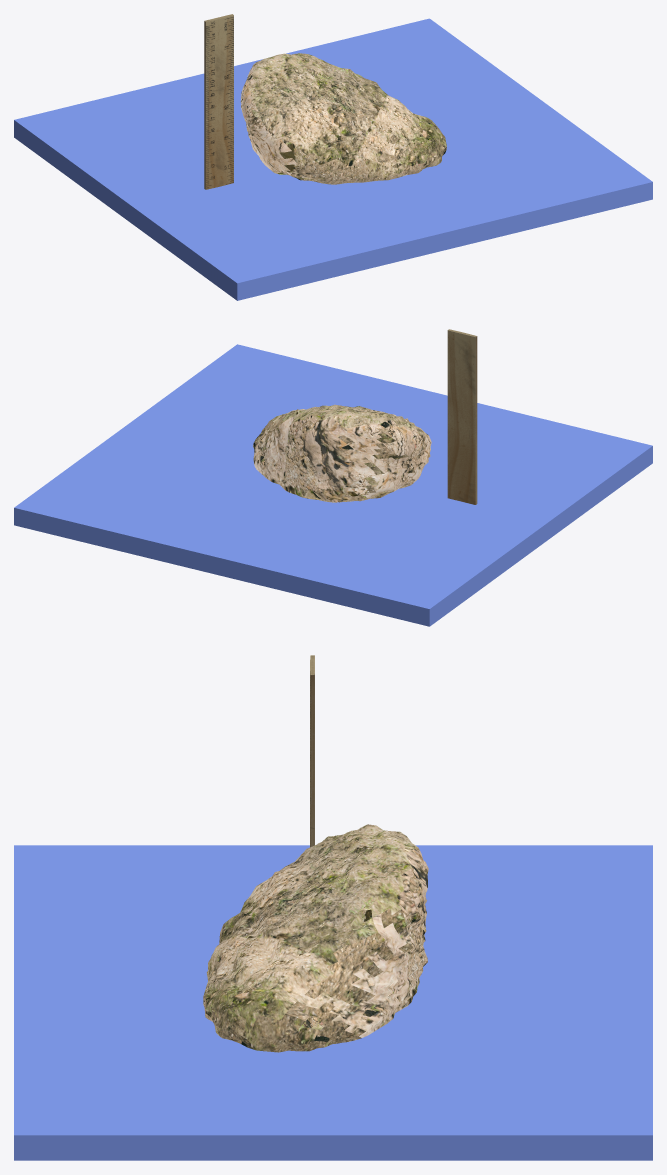
Rendered from scene_facts.glb.
3 views of the same model, one above another, from view 1: azimuth 30°, elevation 25°; view 2: azimuth 150°, elevation 25°; view 3: azimuth 270°, elevation 25° (orthographic). The views are drawn at different scales.
Parts seen in each view (by area): view 1: Cube.001, rock, Ruler_Low; view 2: Cube.001, rock, Ruler_Low; view 3: Cube.001, rock, Ruler_Low.
Part boxes in pixels (bbox=[...]): Cube.001: bbox=[14, 18, 652, 300]; rock: bbox=[240, 53, 446, 184]; Ruler_Low: bbox=[204, 14, 233, 189]; Cube.001: bbox=[14, 344, 652, 626]; rock: bbox=[253, 404, 431, 502]; Ruler_Low: bbox=[447, 329, 477, 504]; Cube.001: bbox=[14, 845, 652, 1160]; rock: bbox=[203, 824, 428, 1052]; Ruler_Low: bbox=[310, 655, 314, 847].
Size of the model in its own units: 5.18 by 2.21 by 4.82.
3 materials, 2 textured.
